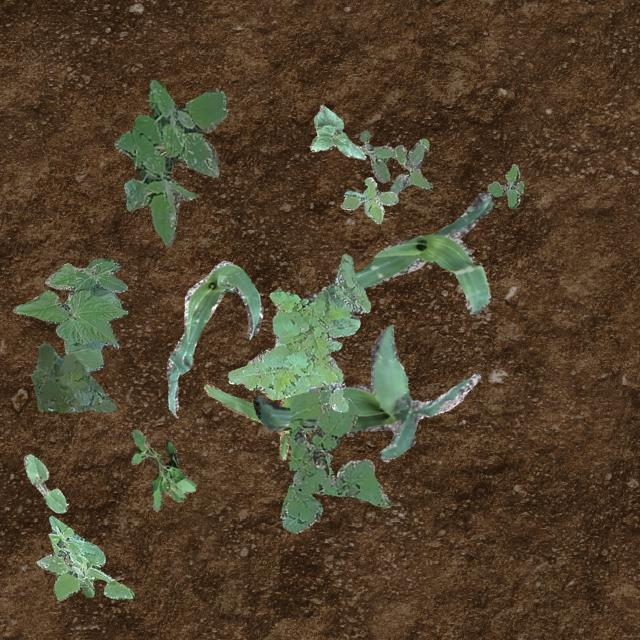crop: (252, 324, 479, 461), (306, 192, 492, 314), (165, 260, 262, 414), (12, 258, 126, 370), (202, 382, 320, 459), (308, 104, 364, 158), (22, 454, 68, 512)
weed: (226, 252, 370, 410), (114, 78, 225, 244), (278, 387, 391, 532), (36, 514, 132, 600), (30, 342, 114, 412), (130, 428, 196, 511), (356, 130, 432, 193), (340, 176, 398, 222), (487, 162, 522, 208)
